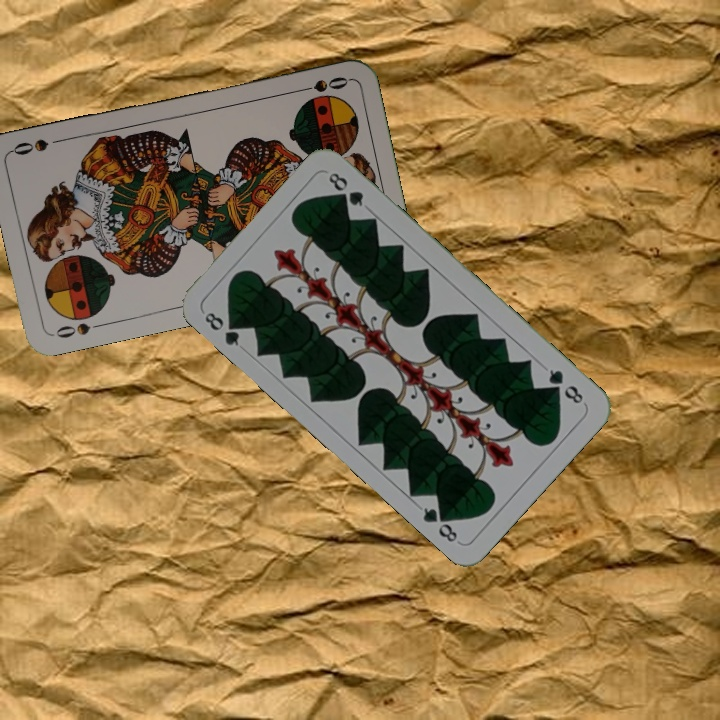G8: (200, 308, 245, 349), (544, 365, 586, 407)
SO: (293, 72, 351, 95), (49, 319, 108, 341)
